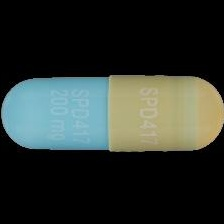30698-421: (0, 0, 224, 224)
